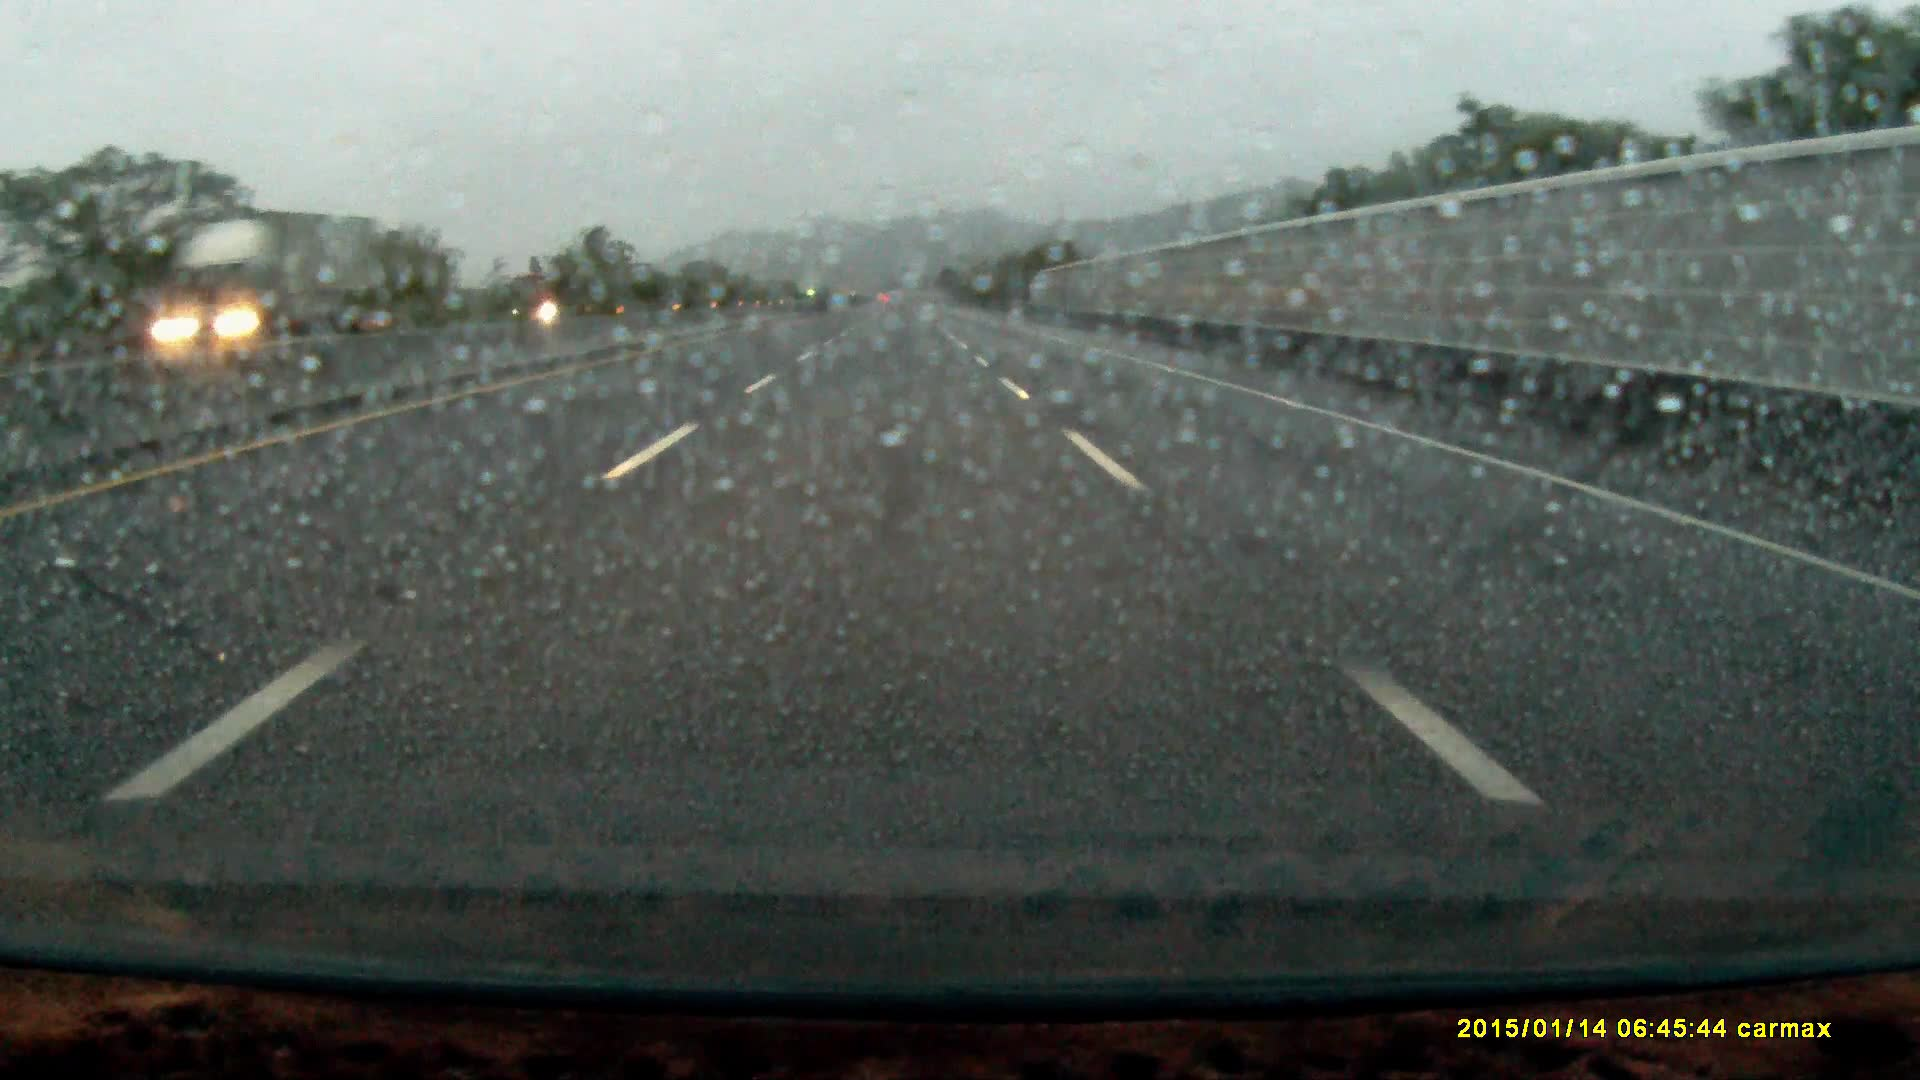vehicle: (153, 218, 376, 345), (516, 285, 608, 323)
